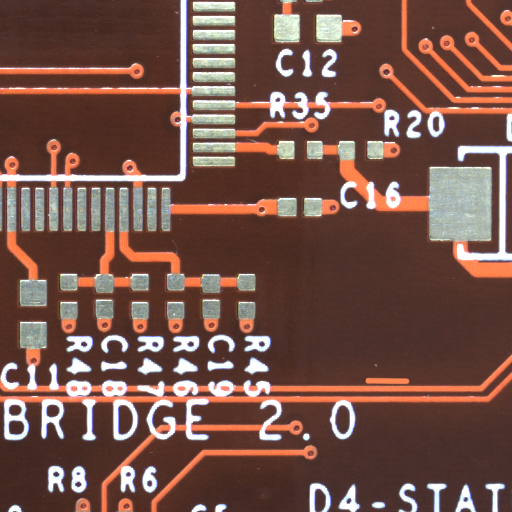Spurious_copper: (388, 381, 434, 389)
